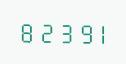eight: (18, 19, 35, 43)
nine: (72, 20, 89, 44)
one: (90, 20, 107, 44)
three: (54, 19, 71, 44)
two: (36, 19, 53, 43)
